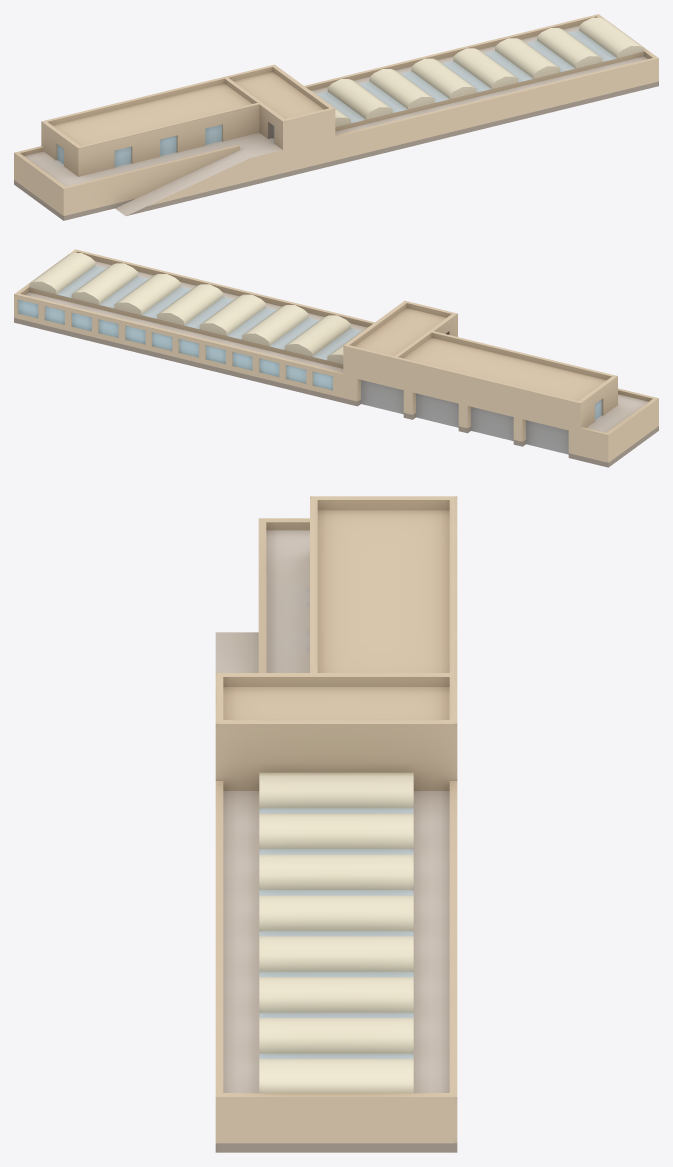
File: momra2.glb
The picture shows the model from 3 angles, top to bottom: view 1: azimuth 30°, elevation 25°; view 2: azimuth 150°, elevation 25°; view 3: azimuth 270°, elevation 25°; orthographic projection. The views are drawn at different scales.
Visible parts, largest first — view 1: momra2; view 2: momra2; view 3: momra2.
Boxes of the visible parts, x1,y1,x2,y2 form: momra2: (14,14,658,220); momra2: (14,249,658,467); momra2: (215,496,457,1152).
Size of the model in its own units: 64.4 by 5.94 by 11.53.
Materials: 1 (1 with a texture image).
